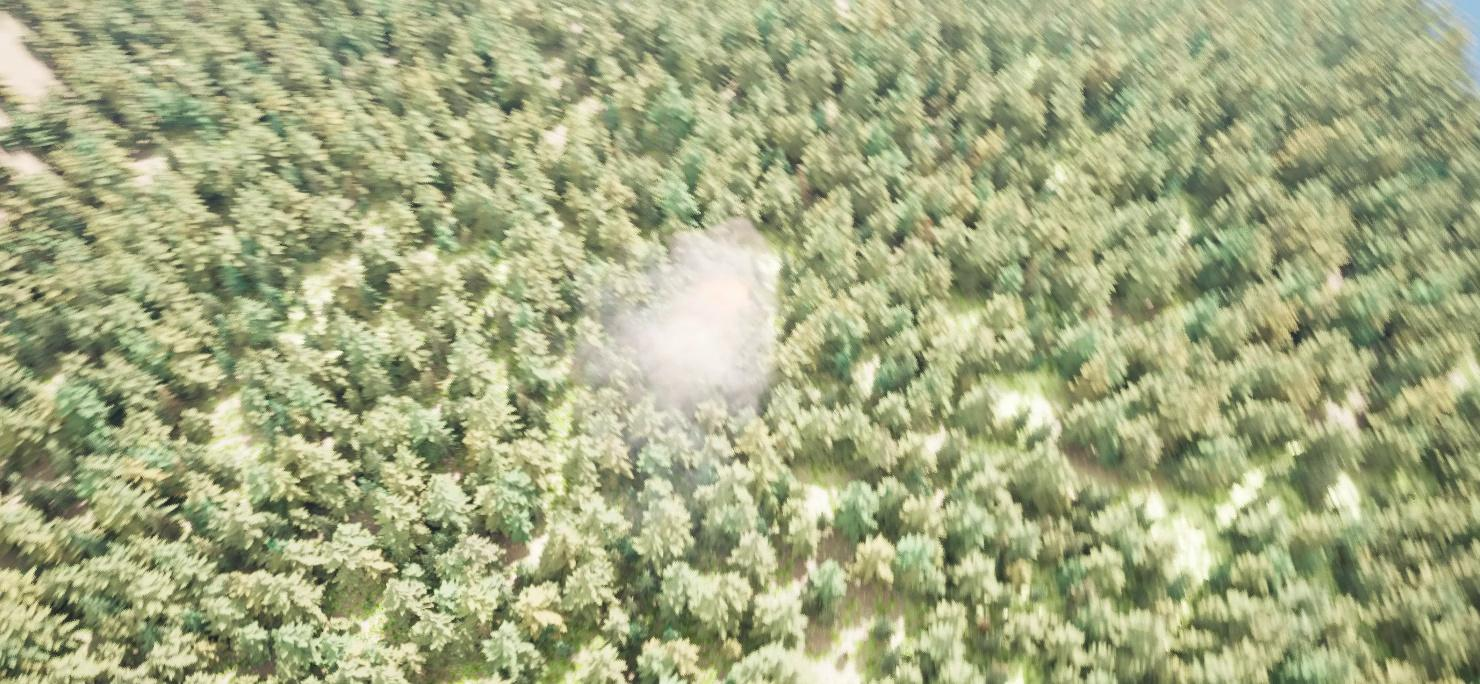smoke: (570, 217, 780, 478)
